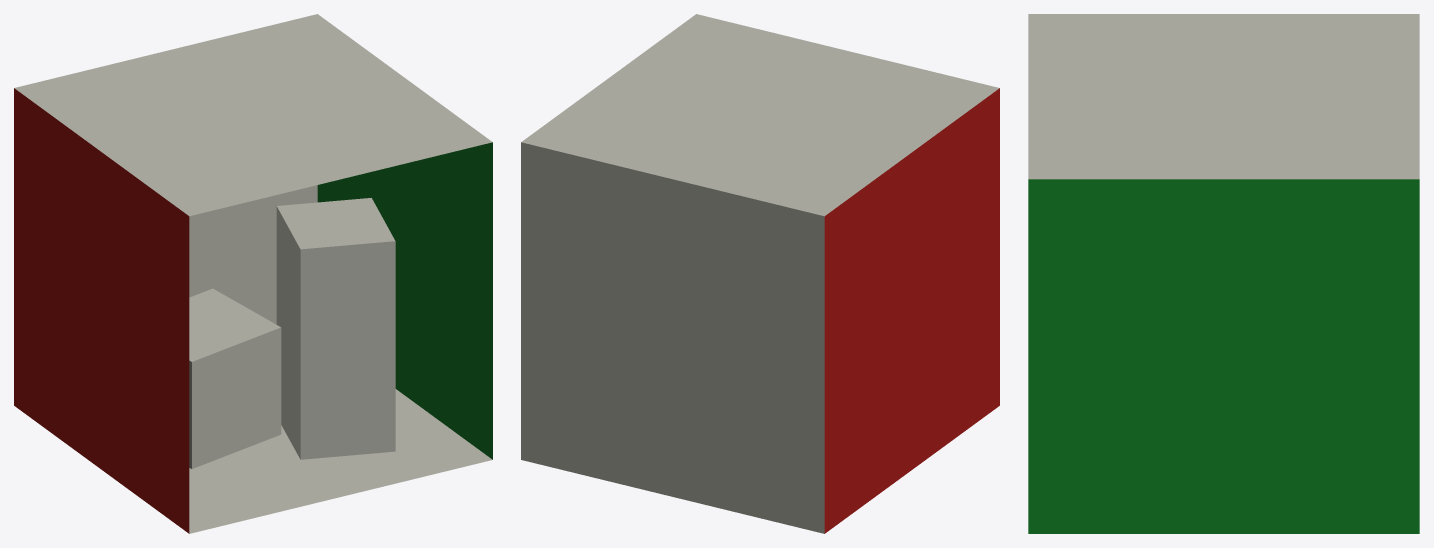
Rendered from cornell-box.obj.
3 renders of one model, left to right at view 1: azimuth 30°, elevation 25°; view 2: azimuth 150°, elevation 25°; view 3: azimuth 270°, elevation 25°, orthographic. The views are drawn at different scales.
Visible parts, largest first — view 1: CornellBox, TallBox, ShortBox; view 2: CornellBox; view 3: CornellBox.
Boxes of the visible parts, left/top/right/bottom form: CornellBox: left=14, top=14, right=492, bottom=533; TallBox: left=276, top=198, right=395, bottom=459; ShortBox: left=189, top=288, right=281, bottom=468; CornellBox: left=521, top=14, right=999, bottom=533; CornellBox: left=1028, top=14, right=1419, bottom=533.
Bounding box in the file's own units: 4 × 4 × 4.
